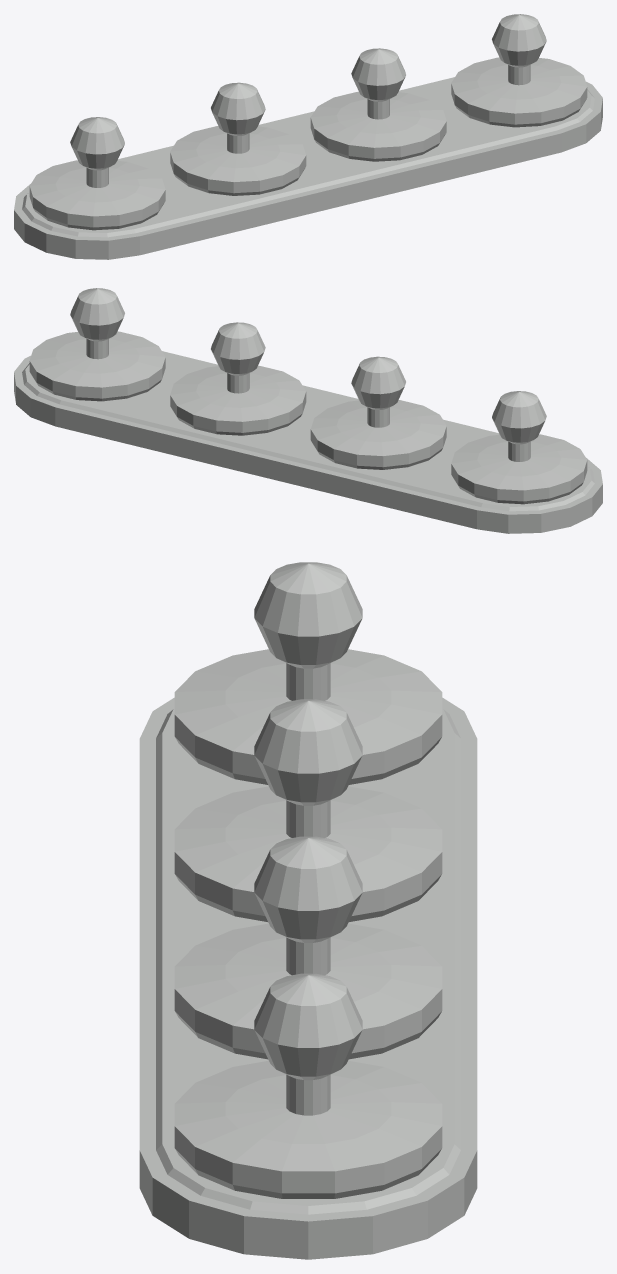
The model's file is SM_Cart_SorbetesLid_01.fbx.
3 views of the same model, one above another, from view 1: azimuth 30°, elevation 25°; view 2: azimuth 150°, elevation 25°; view 3: azimuth 270°, elevation 25° (orthographic). The views are drawn at different scales.
Parts seen in each view (by area): view 1: SM_Cart_SorbetesLid_01; view 2: SM_Cart_SorbetesLid_01; view 3: SM_Cart_SorbetesLid_01.
Part boxes in pixels (x1,y1,x2,y2): SM_Cart_SorbetesLid_01: (14,14,602,259); SM_Cart_SorbetesLid_01: (14,288,602,533); SM_Cart_SorbetesLid_01: (139,562,477,1259).
Size of the model in its own units: 0.808 by 0.145 by 0.208.
Materials: 1 (1 with a texture image).
